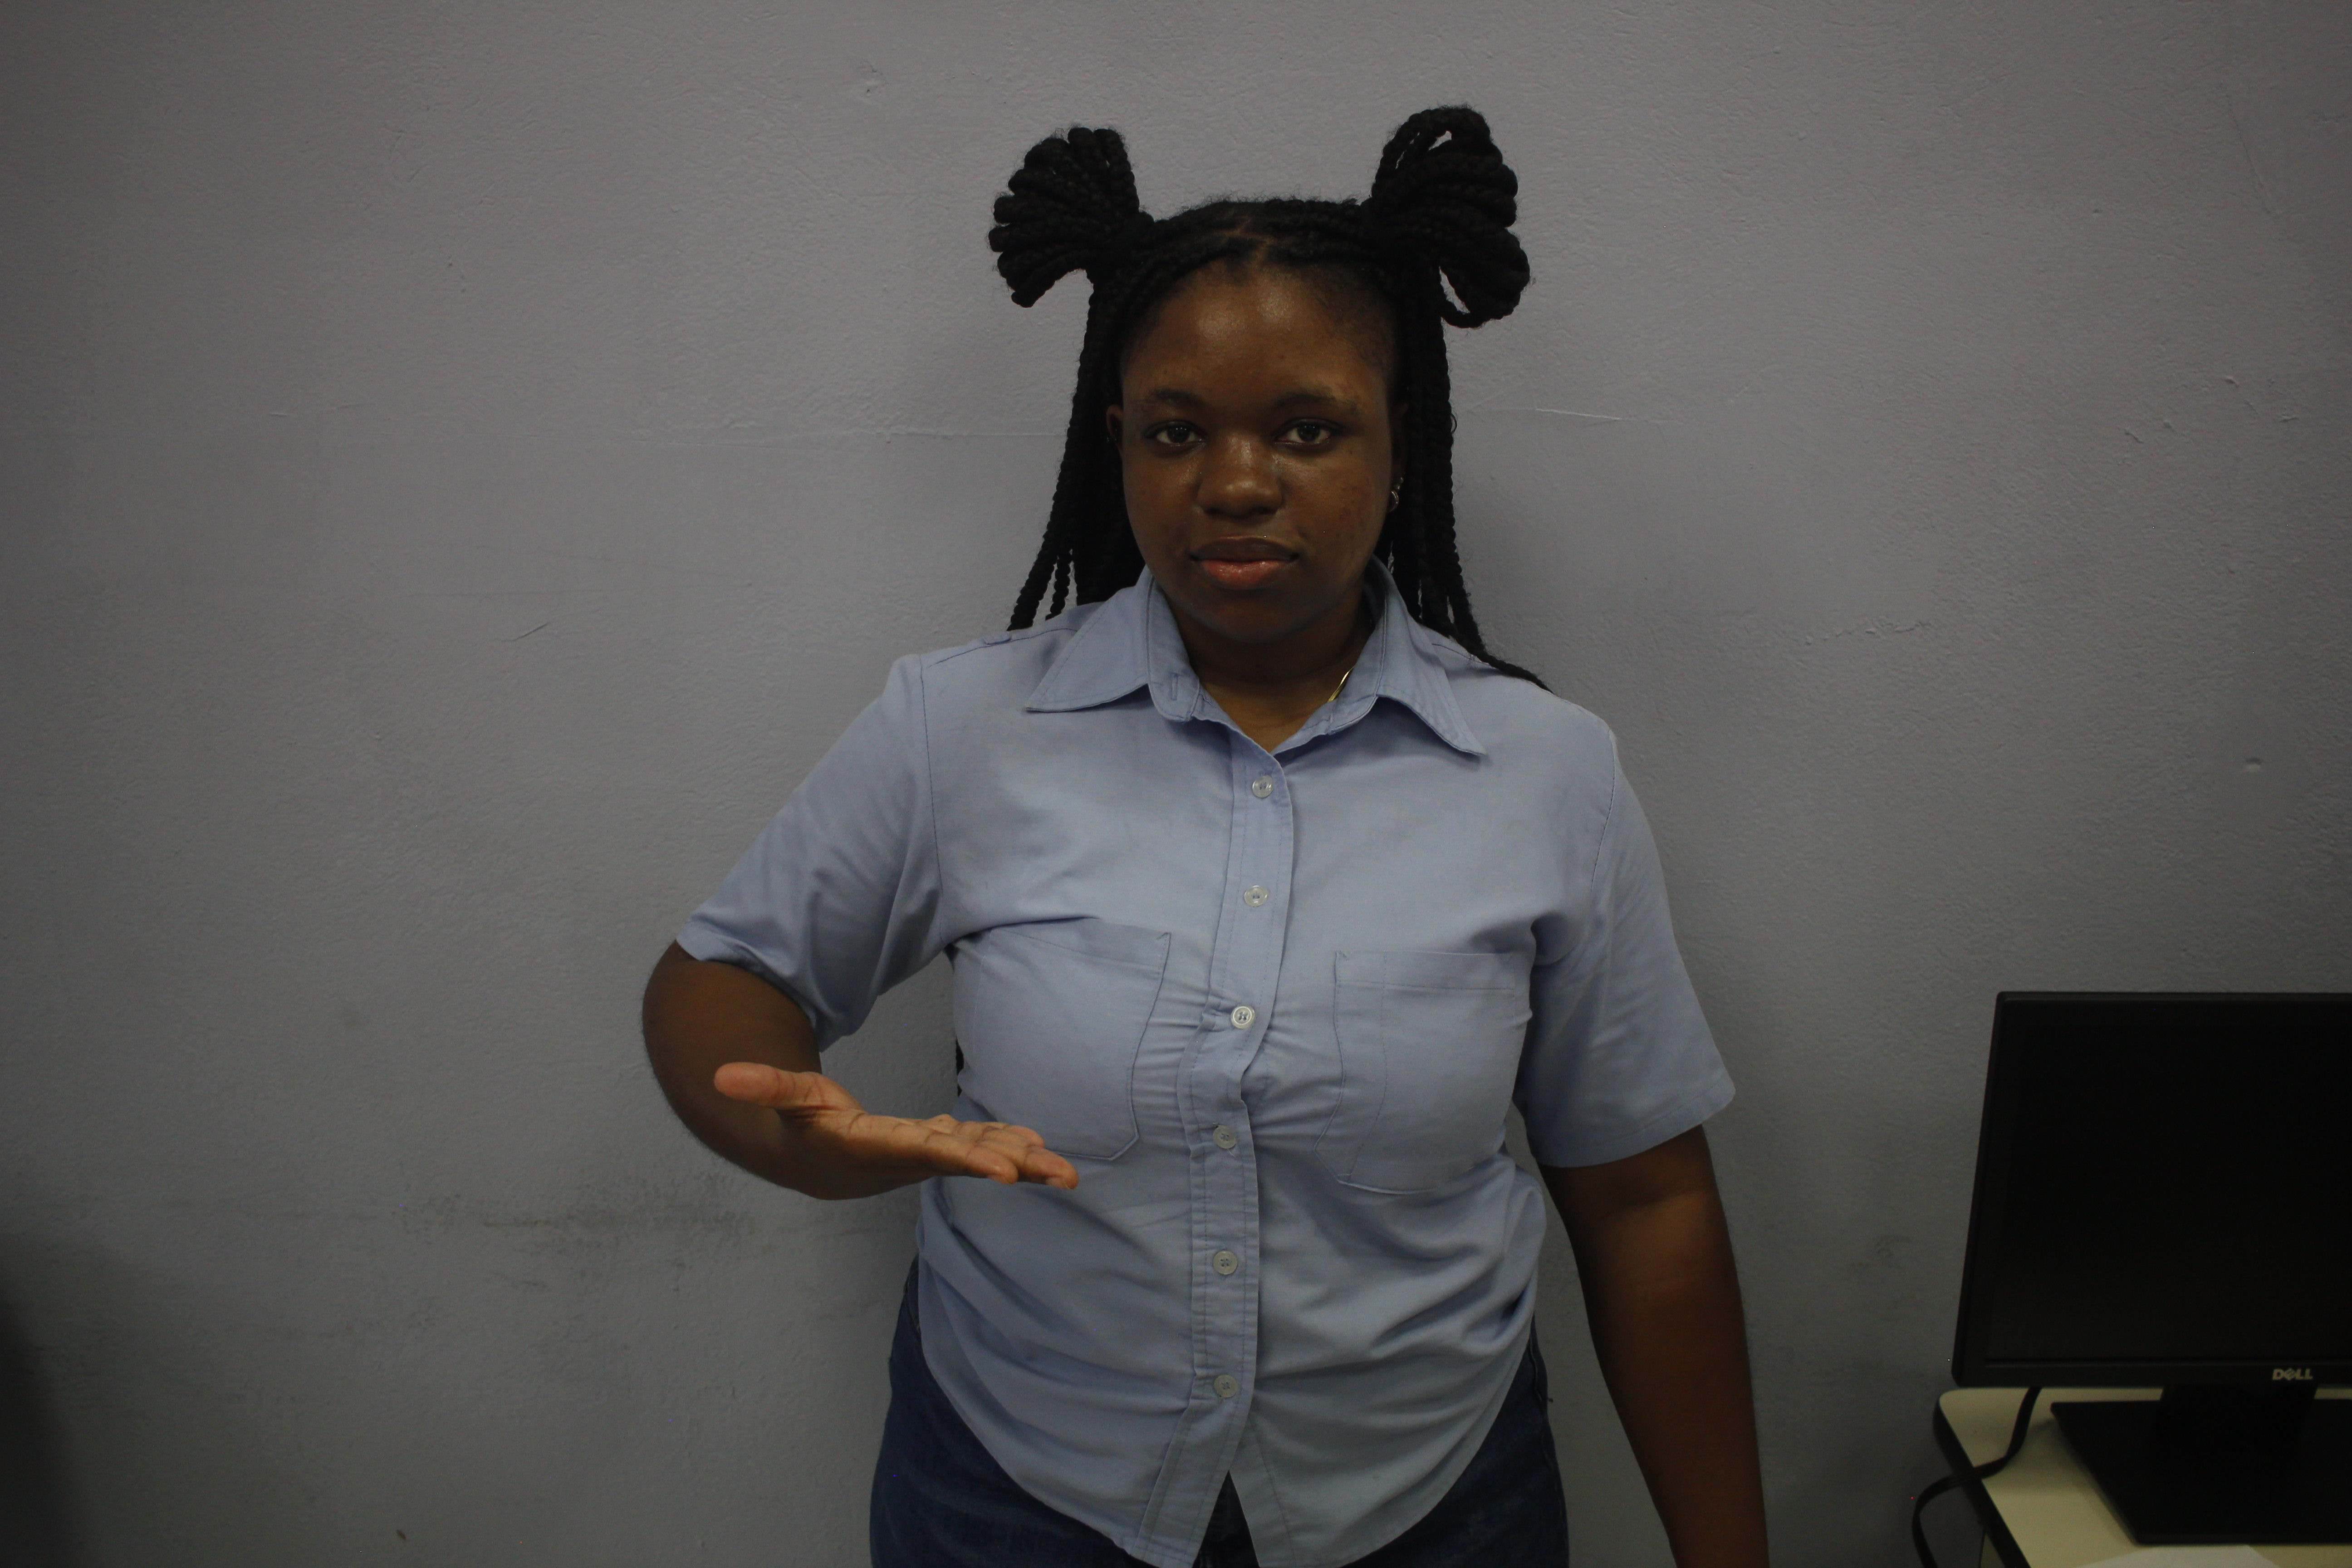you are welcome: (709, 1043, 1085, 1211)
